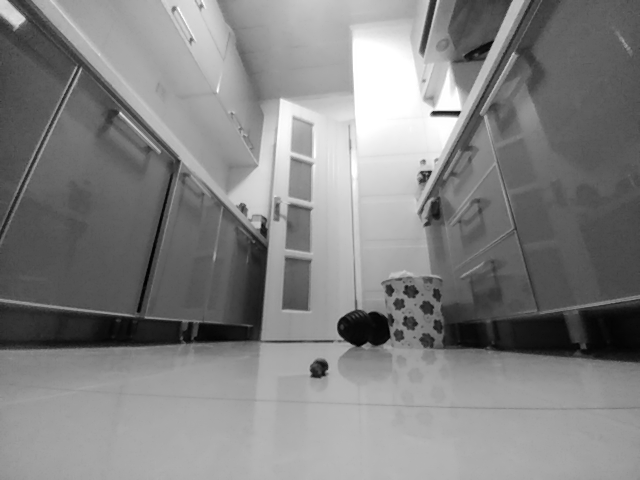pet feces: (310, 359, 330, 377)
